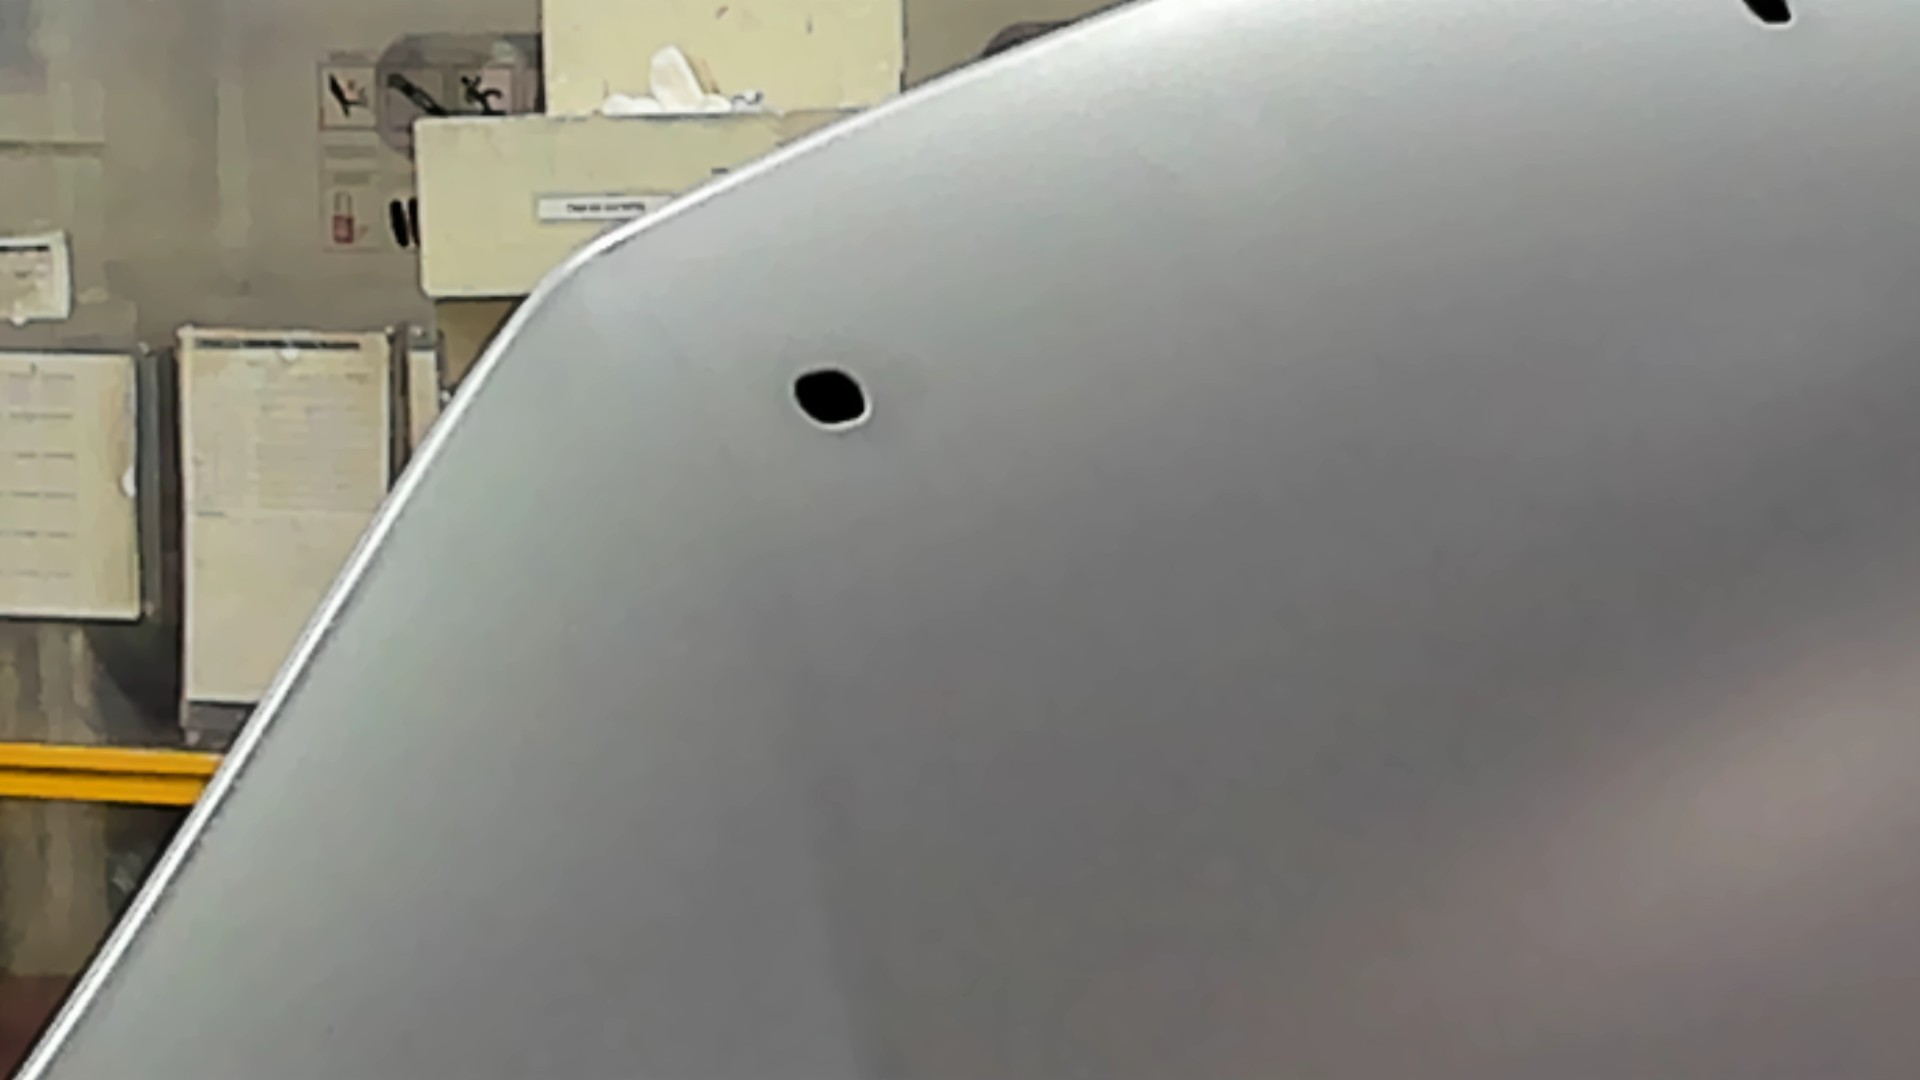amorfo: (786, 360, 877, 440), (1733, 1, 1807, 37)
capo: (976, 119, 1920, 1080)
